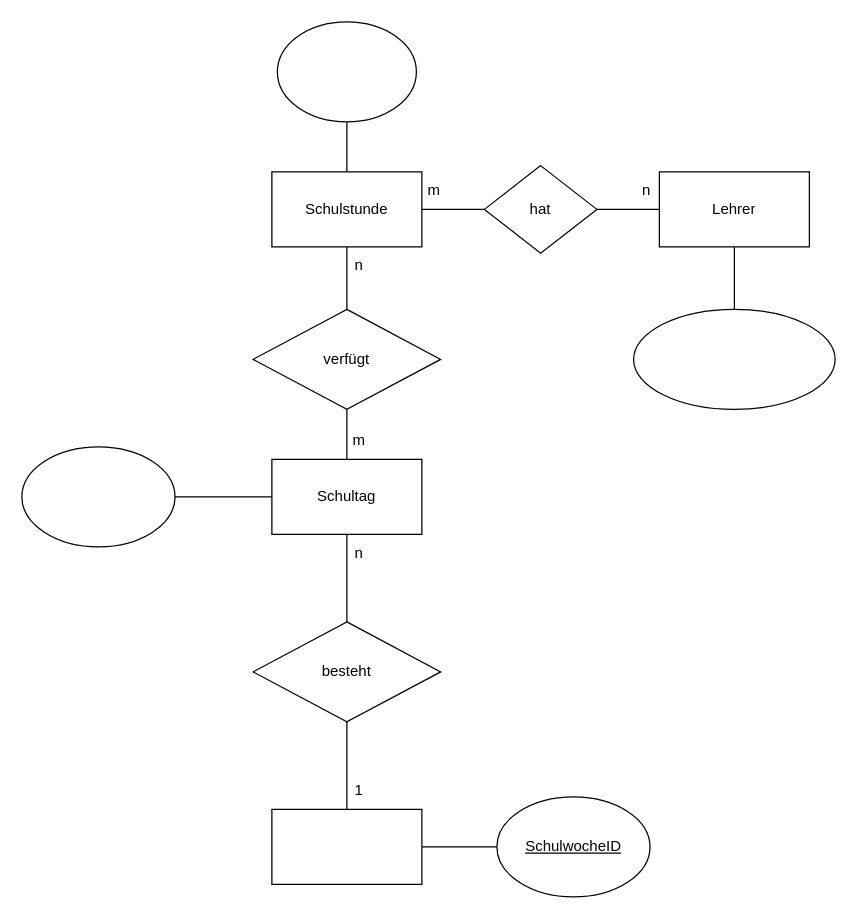
This 858x919 diagram has some shape labels left out. The box of each missing label's shape, as (x1, y1, x2, y2) in pixels:
LehrerID LehrerVorname LehrerNachname: (632, 308, 835, 409)
SchlustundeID NameFach: (276, 21, 416, 122)
SchlutagID NameTag: (21, 446, 175, 547)
Schulwoche: (271, 808, 422, 884)
